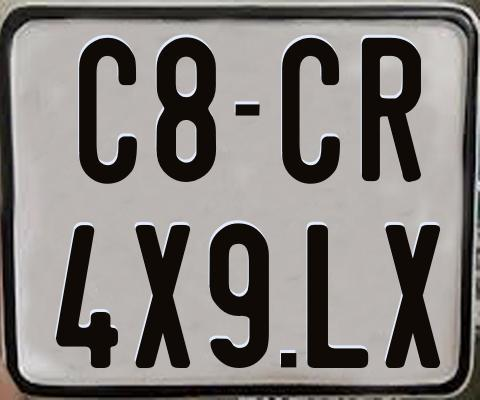4: (55, 225, 122, 370)
8: (153, 36, 216, 182)
9: (209, 222, 271, 373)
C: (279, 38, 343, 186), (76, 37, 136, 183)
L: (304, 222, 367, 367)
R: (360, 38, 422, 183)
X: (384, 222, 444, 371), (134, 223, 191, 371)
